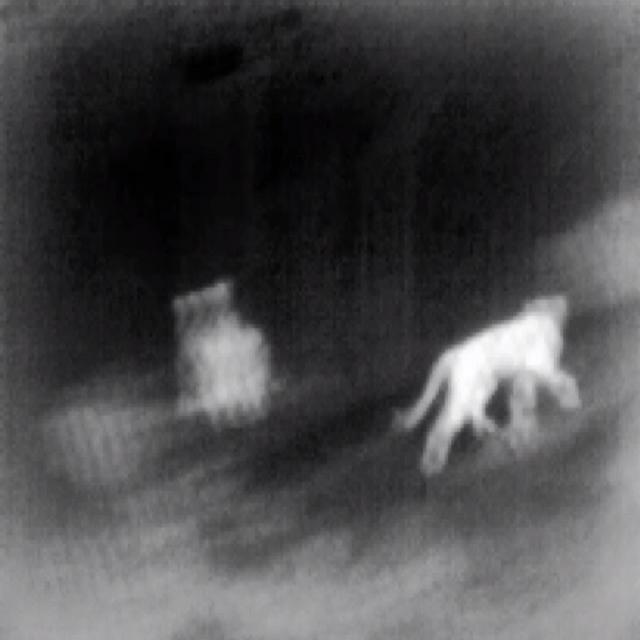cheetah: (394, 297, 580, 476), (176, 281, 272, 424)
